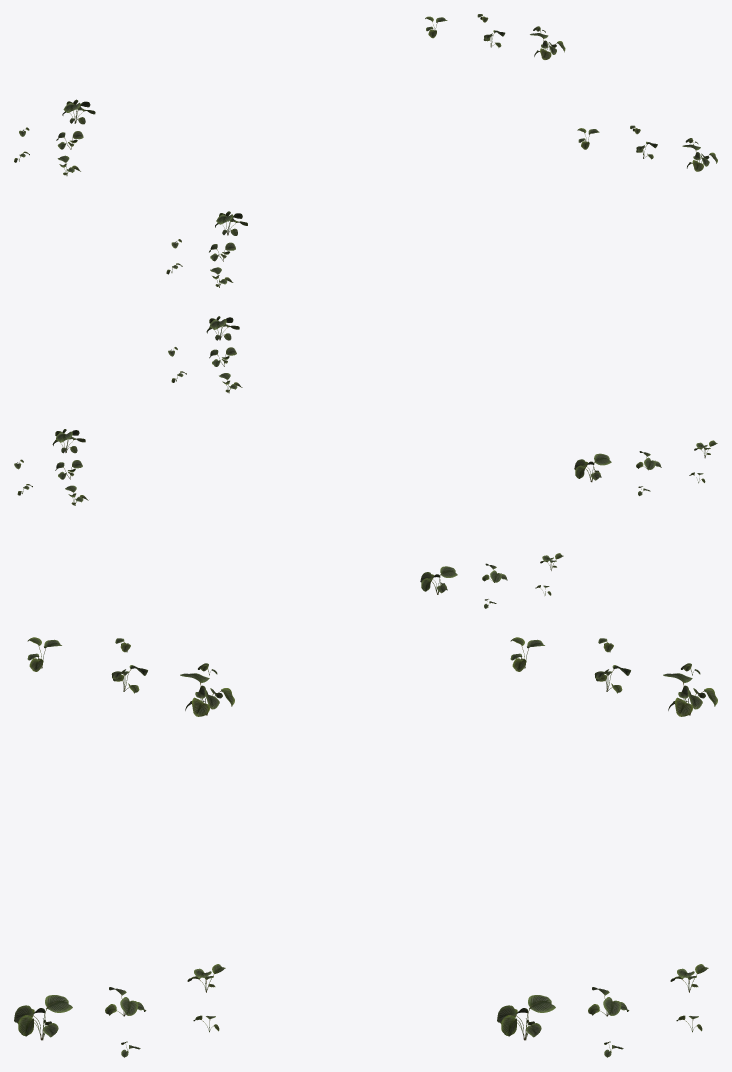
Rendered from terrace_plants.glb.
3 renders of one model, top to bottom at view 1: azimuth 30°, elevation 25°; view 2: azimuth 150°, elevation 25°; view 3: azimuth 270°, elevation 25°, orthographic. The views are drawn at different scales.
Visible parts, largest first — view 1: terrace_plants; view 2: terrace_plants; view 3: terrace_plants.
Boxes of the visible parts, x1,y1,x2,y2 form: terrace_plants: (14,14,717,287); terrace_plants: (14,316,717,608); terrace_plants: (14,637,717,1057).
Size of the model in its own units: 15.7 by 0.6789 by 11.37.
4 materials, 4 textured.
